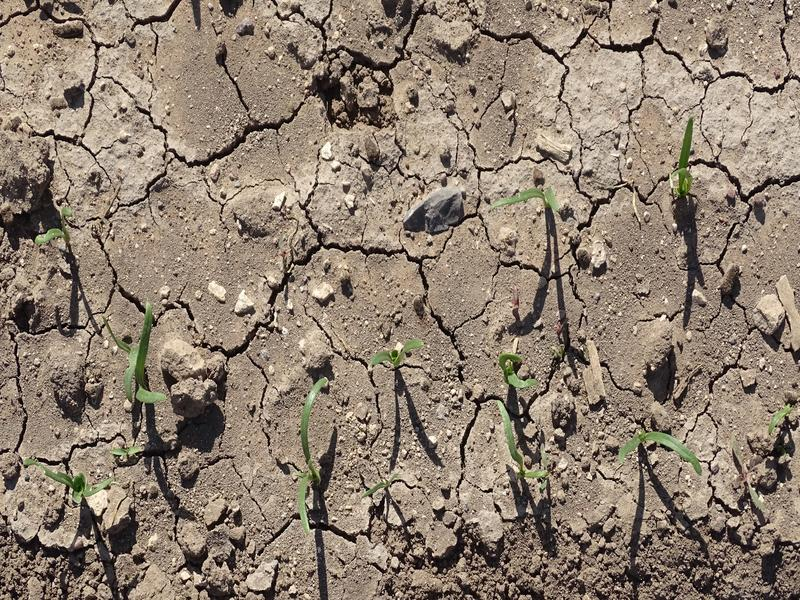Espinaca: (292, 376, 332, 526), (112, 304, 165, 404), (493, 403, 547, 478), (616, 428, 701, 470), (36, 464, 114, 499), (490, 179, 565, 211), (496, 346, 540, 391), (675, 113, 698, 199), (369, 338, 428, 366)
